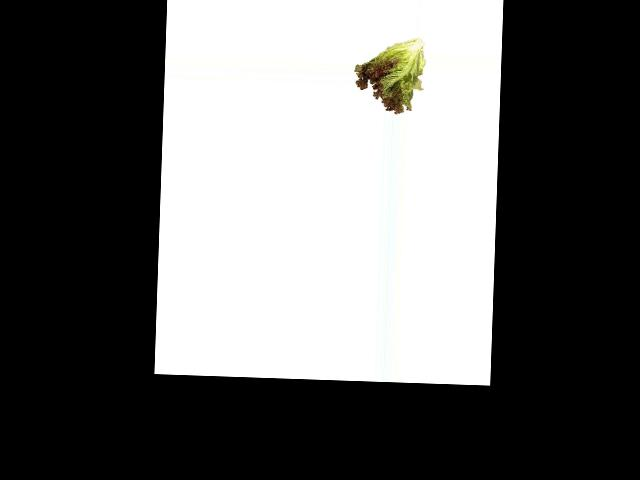lettuce: (354, 37, 425, 115)
